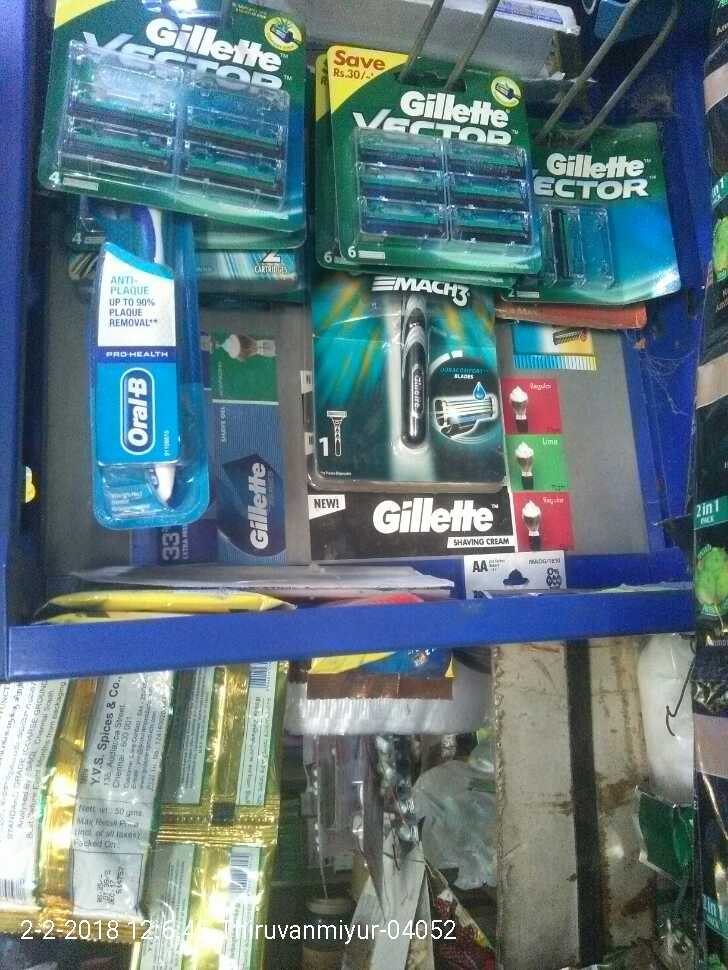gillette: (177, 76, 292, 207), (65, 44, 175, 179), (346, 118, 447, 244), (450, 135, 536, 250), (542, 198, 618, 289)
